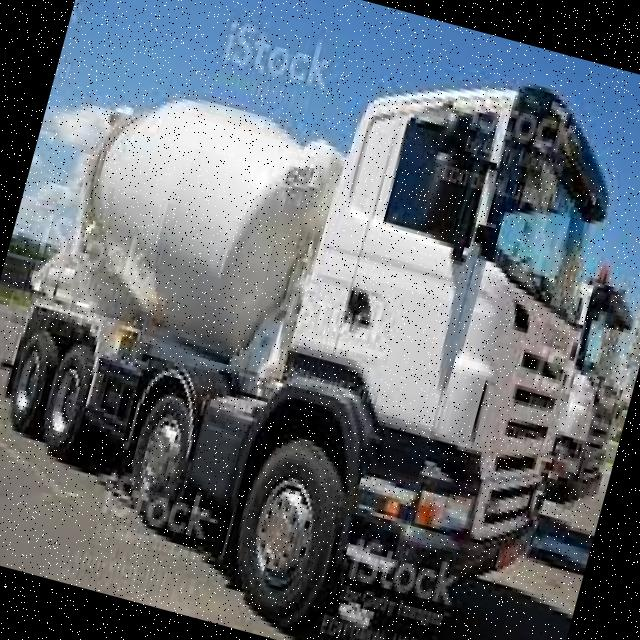Mixer Truck: (0, 0, 640, 640), (511, 251, 640, 534)
